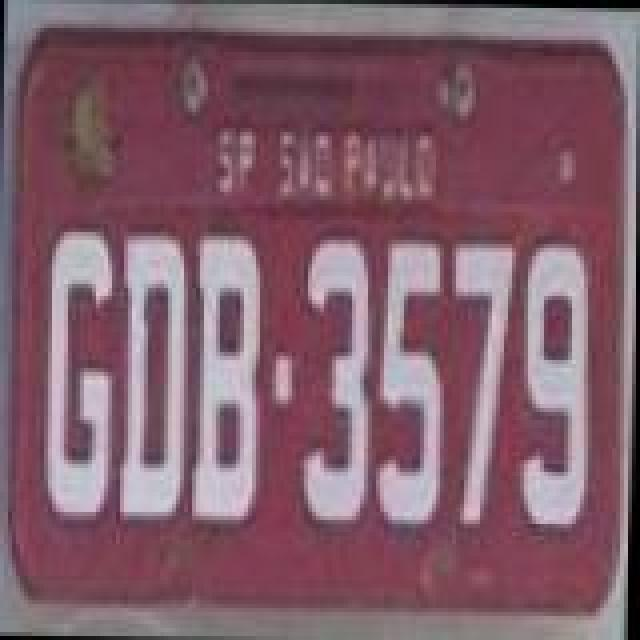3: (300, 228, 380, 528)
5: (374, 230, 450, 530)
7: (444, 230, 520, 530)
9: (514, 234, 594, 534)
B: (186, 234, 266, 534)
D: (114, 232, 194, 532)
G: (44, 218, 124, 526)
